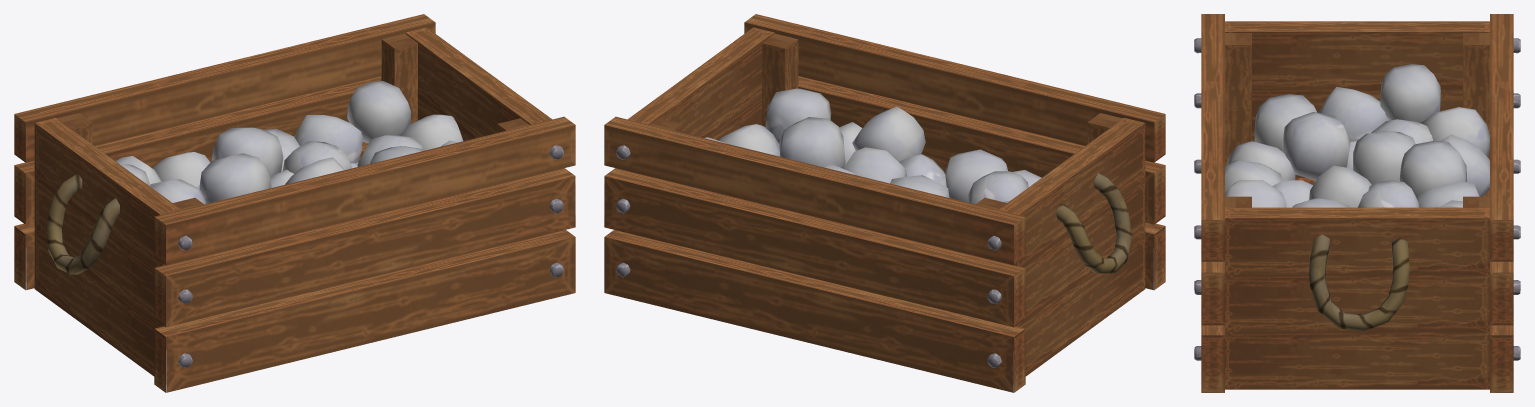
File: FarmCrate_Apple.fbx
3 views of the same model, side by side, from view 1: azimuth 30°, elevation 25°; view 2: azimuth 150°, elevation 25°; view 3: azimuth 270°, elevation 25° (orthographic). The views are drawn at different scales.
Visible parts, largest first — view 1: FarmCrate_Apple; view 2: FarmCrate_Apple; view 3: FarmCrate_Apple.
Boxes of the visible parts, x1,y1,x2,y2 form: FarmCrate_Apple: (14, 14, 575, 392); FarmCrate_Apple: (604, 14, 1165, 392); FarmCrate_Apple: (1194, 14, 1520, 392).
Size of the model in its own units: 71.38 by 24.38 by 41.42.
